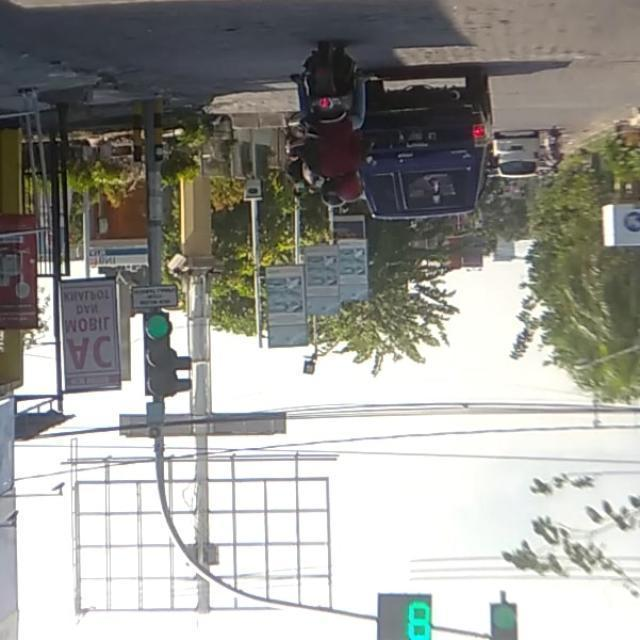green_light: (142, 309, 189, 396), (488, 589, 516, 637)
